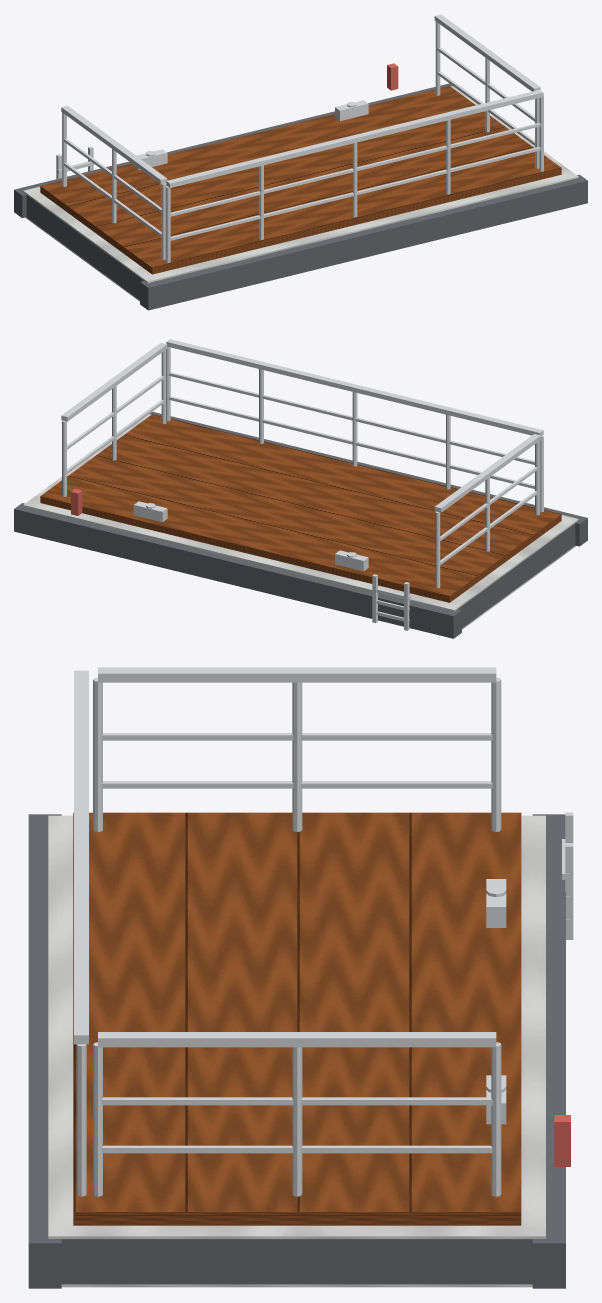
The model's file is cruise-ship-deck-and-lounge-cruise-ship-deck-and-loung-e8bf8c10__38426.glb.
The picture shows the model from 3 angles, top to bottom: view 1: azimuth 30°, elevation 25°; view 2: azimuth 150°, elevation 25°; view 3: azimuth 270°, elevation 25°; orthographic projection. The views are drawn at different scales.
Visible parts, largest first — view 1: cruise-ship-deck-and-lounge-tender-boarding-platform; view 2: cruise-ship-deck-and-lounge-tender-boarding-platform; view 3: cruise-ship-deck-and-lounge-tender-boarding-platform.
Boxes of the visible parts, x1,y1,x2,y2 form: cruise-ship-deck-and-lounge-tender-boarding-platform: [14, 14, 587, 310]; cruise-ship-deck-and-lounge-tender-boarding-platform: [14, 339, 587, 638]; cruise-ship-deck-and-lounge-tender-boarding-platform: [28, 667, 573, 1288].
Size of the model in its own units: 6.12 by 1.49 by 3.29.
Materials: 5 (2 with a texture image).
